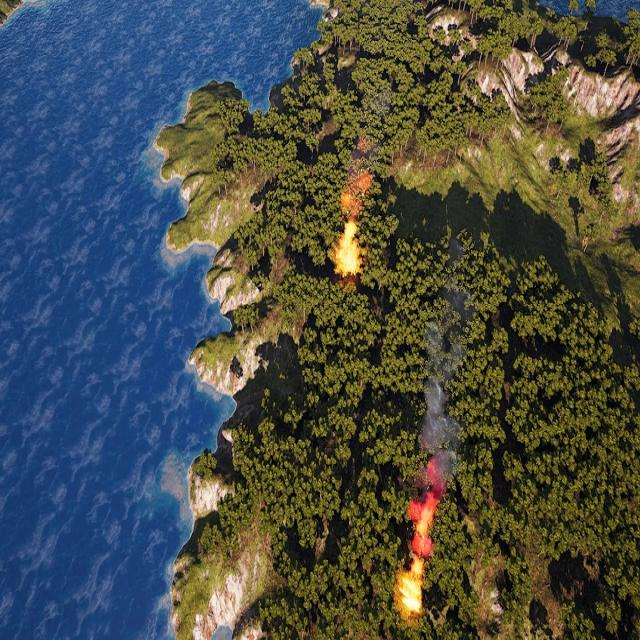fire: (408, 489, 439, 554), (397, 554, 425, 616), (334, 221, 364, 276)
smoke: (401, 282, 481, 562), (342, 87, 390, 213)
